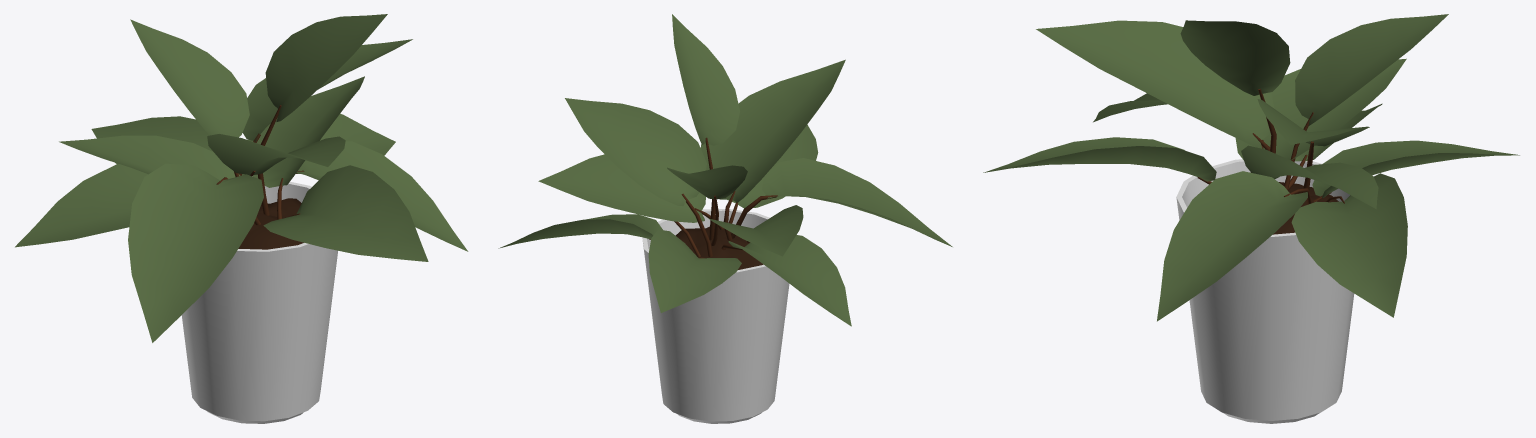
File: Plant.fbx
The picture shows the model from 3 angles, left to right: view 1: azimuth 30°, elevation 25°; view 2: azimuth 150°, elevation 25°; view 3: azimuth 270°, elevation 25°; orthographic projection. The views are drawn at different scales.
Parts seen in each view (by area): view 1: Houseplant_8.5in_001; view 2: Houseplant_8.5in_001; view 3: Houseplant_8.5in_001.
Boxes of the visible parts, x1=… form: Houseplant_8.5in_001: x1=15, y1=14, x2=468, y2=423; Houseplant_8.5in_001: x1=498, y1=14, x2=952, y2=423; Houseplant_8.5in_001: x1=983, y1=14, x2=1519, y2=423.
Bounding box in the file's own units: 22.94 × 21.9 × 25.1.
